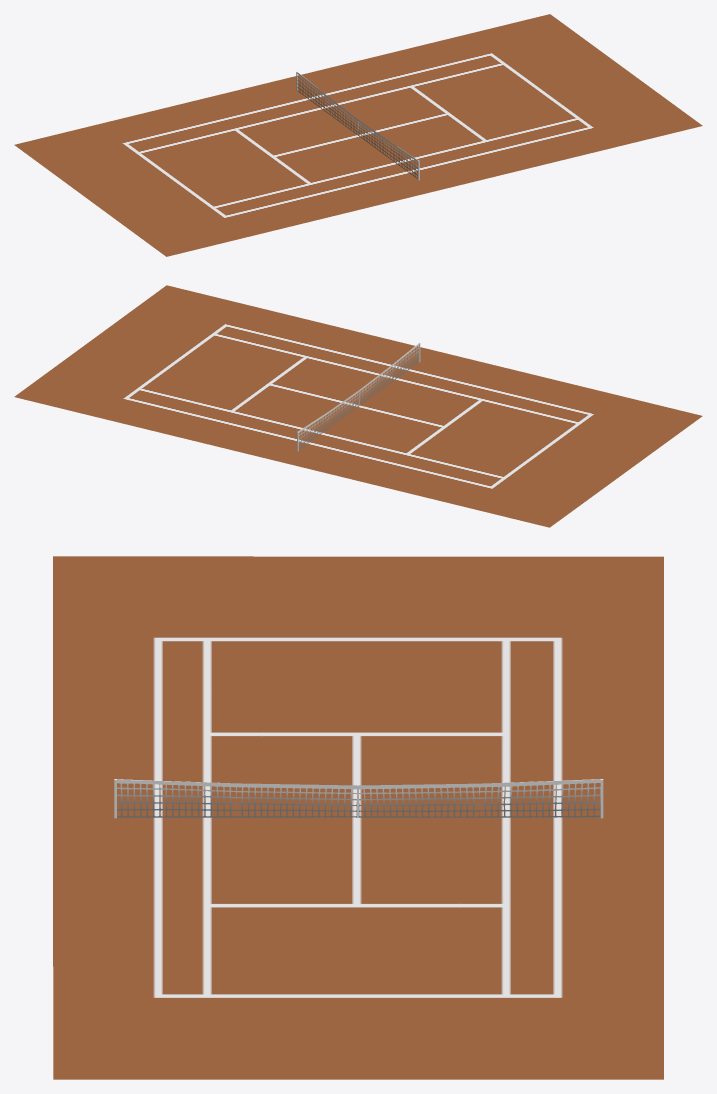
The model's file is court_mesh.FBX.
3 renders of one model, top to bottom at view 1: azimuth 30°, elevation 25°; view 2: azimuth 150°, elevation 25°; view 3: azimuth 270°, elevation 25°, orthographic. The views are drawn at different scales.
Visible parts, largest first — view 1: court_mesh, net_mesh; view 2: court_mesh, net_mesh; view 3: court_mesh, net_mesh.
Boxes of the visible parts, x1,y1,x2,y2 form: court_mesh: [14, 14, 702, 256]; net_mesh: [296, 71, 419, 180]; court_mesh: [14, 285, 702, 527]; net_mesh: [297, 342, 420, 451]; court_mesh: [53, 556, 663, 1079]; net_mesh: [114, 779, 603, 818].
Bounding box in the file's own units: 60.05 × 29.64 × 2.07.
Materials: 1 (1 with a texture image).
